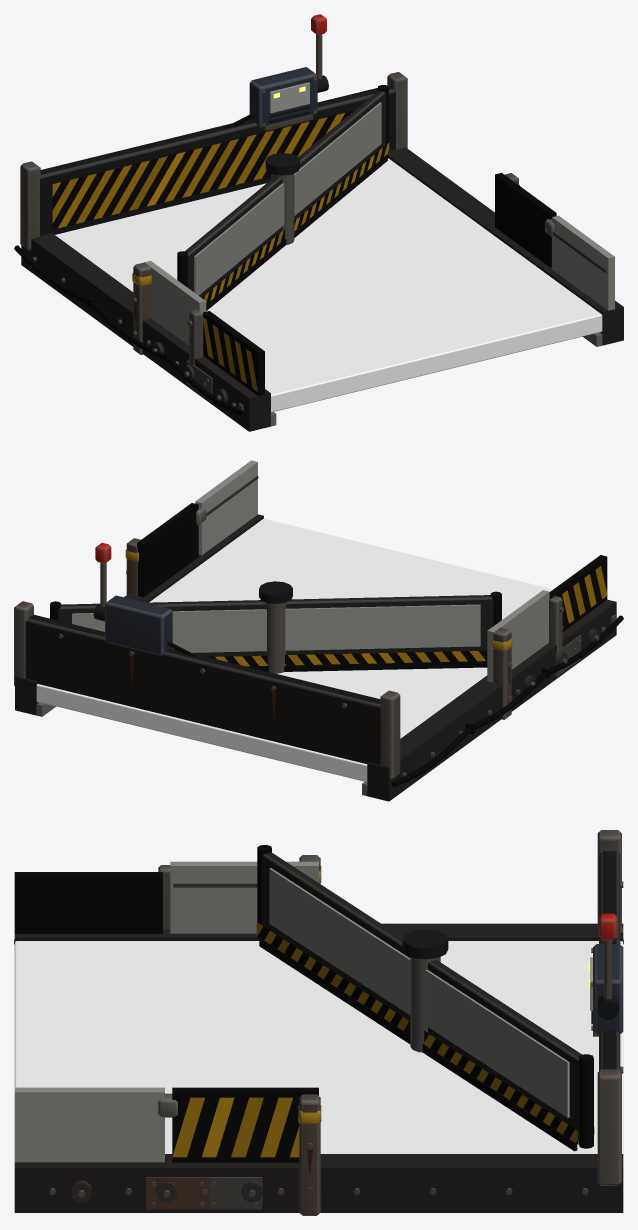
The model's file is conveyor_splitter_switch.glb.
The picture shows the model from 3 angles, top to bottom: view 1: azimuth 30°, elevation 25°; view 2: azimuth 150°, elevation 25°; view 3: azimuth 270°, elevation 25°; orthographic projection. The views are drawn at different scales.
Visible parts, largest first — view 1: Body, Belt; view 2: Body, Belt; view 3: Body, Belt.
Part boxes in pixels (x1,y1,x2,y2): Body: (14, 14, 623, 431); Belt: (55, 158, 602, 412); Body: (14, 460, 623, 801); Belt: (36, 518, 552, 782); Body: (14, 830, 623, 1215); Belt: (14, 941, 623, 1153).
Bounding box in the file's own units: 1.98 × 0.89 × 2.
